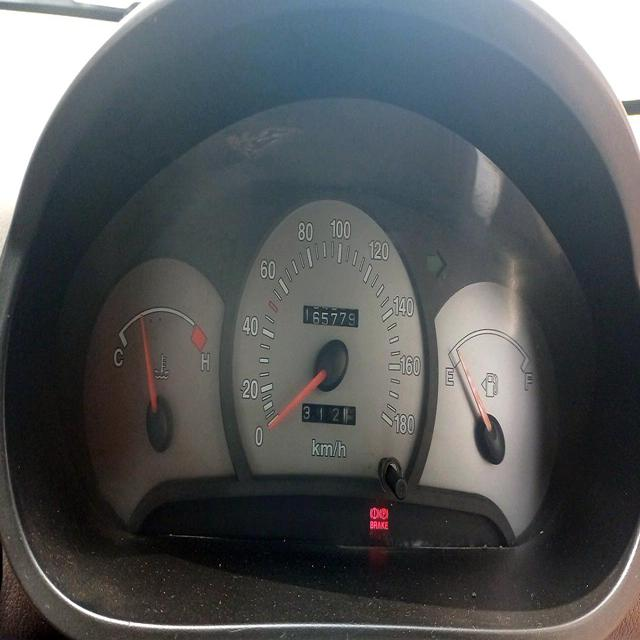odometer: (303, 305, 358, 327)
